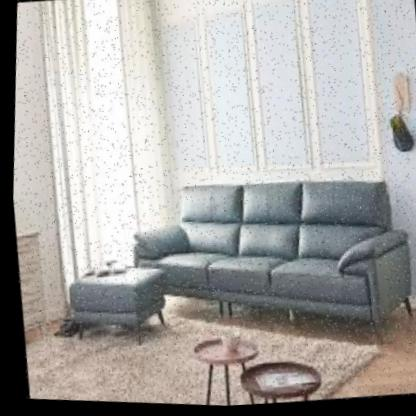Sofa: (78, 141, 416, 387)
